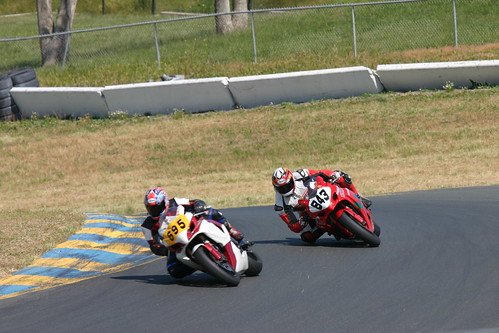helmet: (266, 161, 294, 196), (135, 186, 166, 210)
